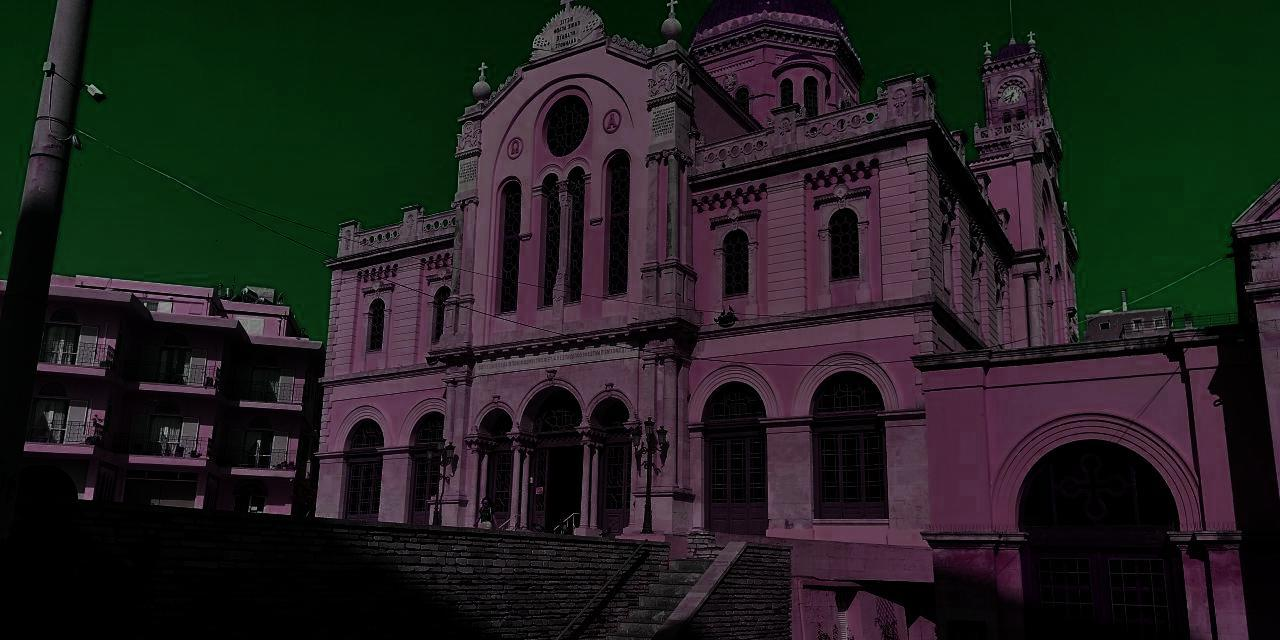Agios Minas: (314, 3, 1280, 640)
